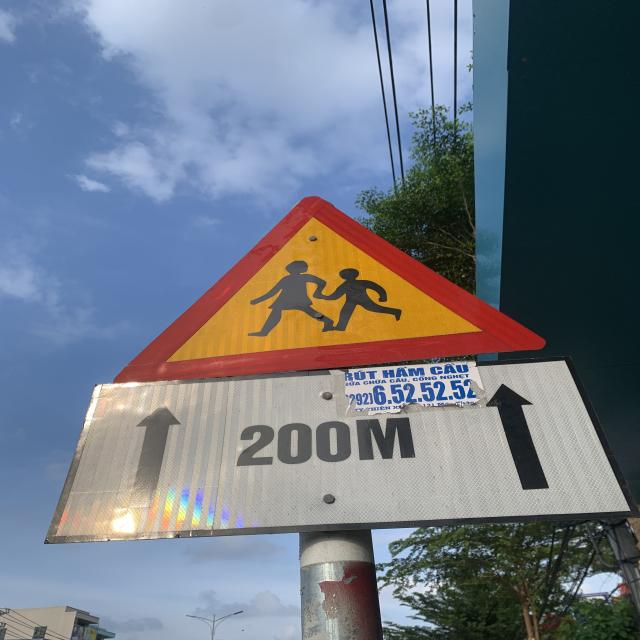Vong_Xuyen: (114, 194, 547, 387)
